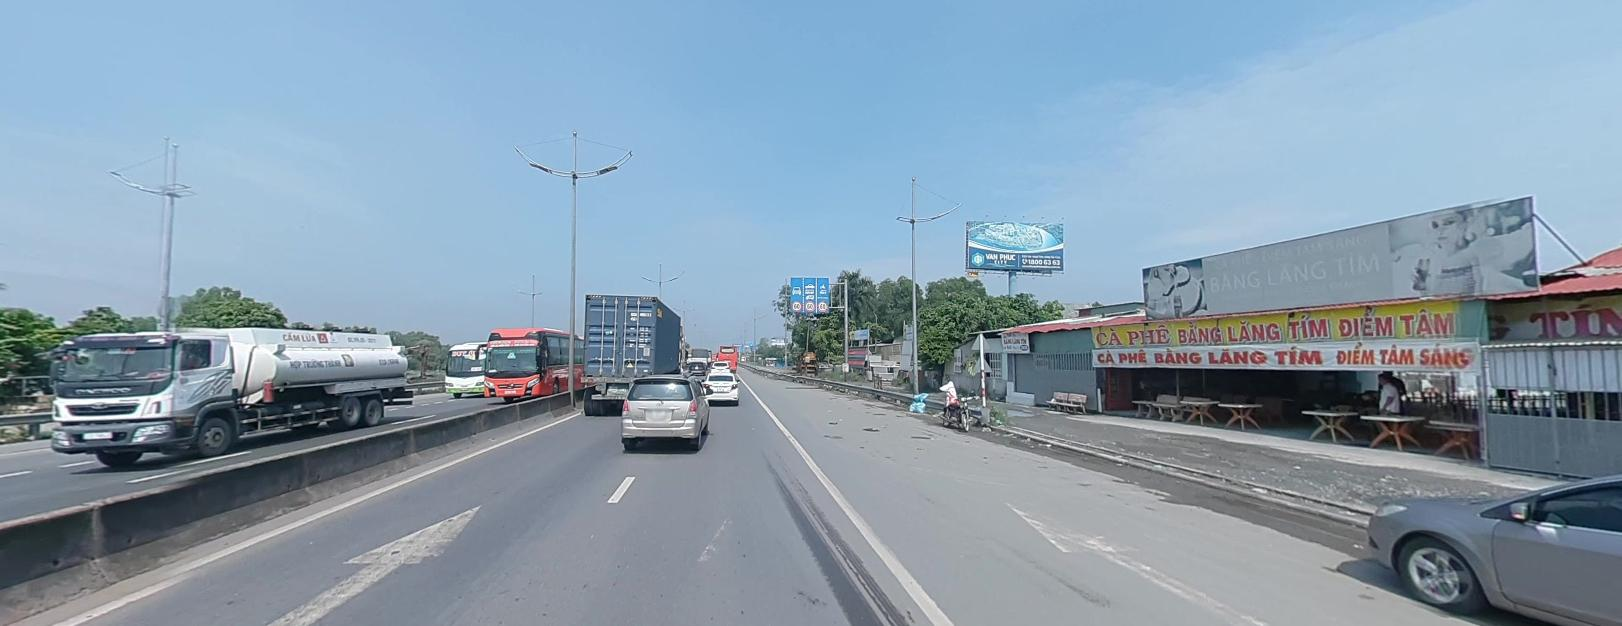Gioi han toc do: (805, 300, 814, 309), (792, 299, 801, 309), (819, 300, 827, 308)
